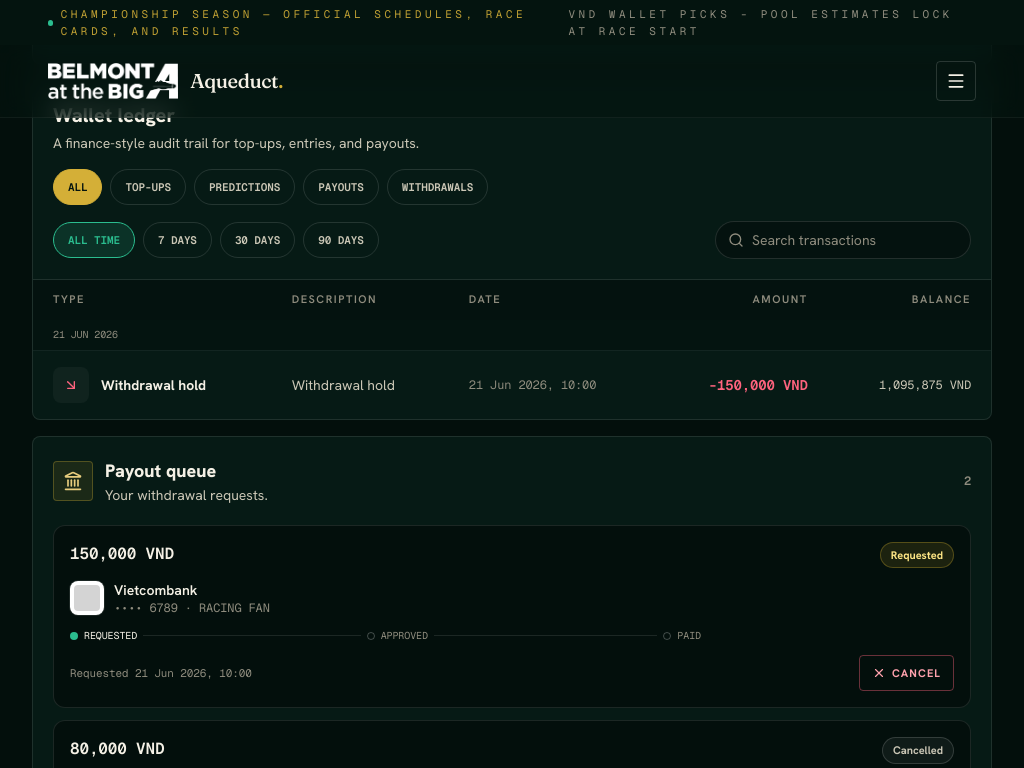
WalletPage › resolves the payout destination for a withdrawal row without another request
(page scrolled)
Click the button with aria-label "view details for withdrawal hold" at [130, 385], box [53,367,206,403]
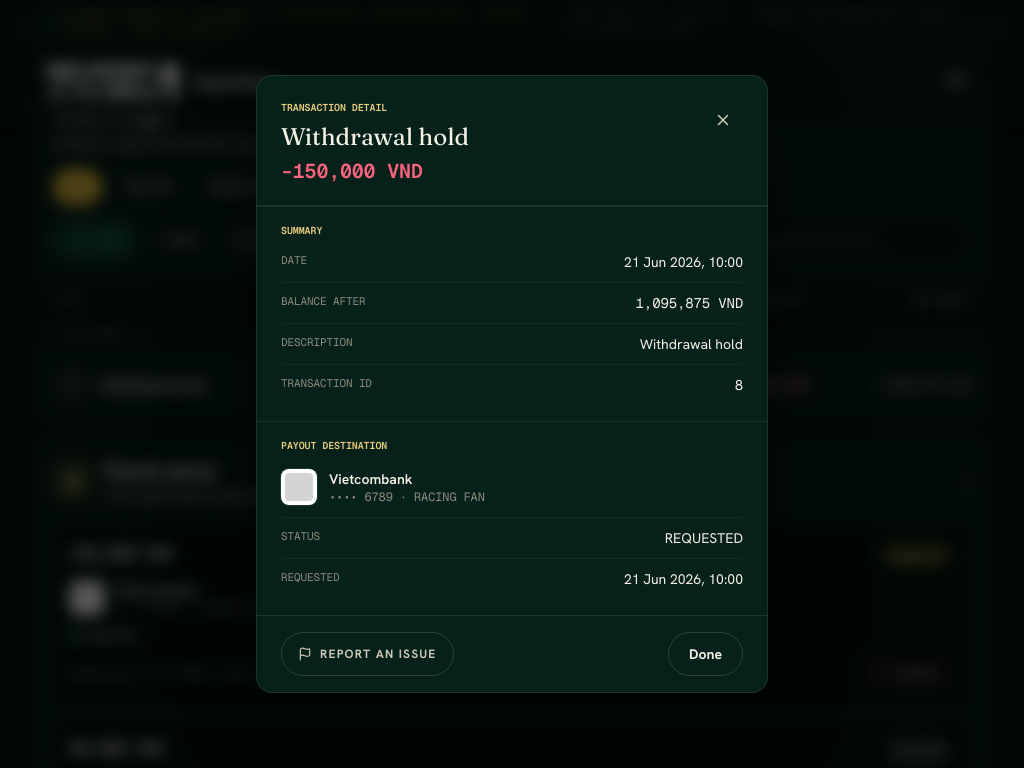
Now the text "Vietcombank" is shown, box [329,470,412,488]
Now the text "•••• 6789 · RACING FAN" is shown, box [329,489,485,505]
